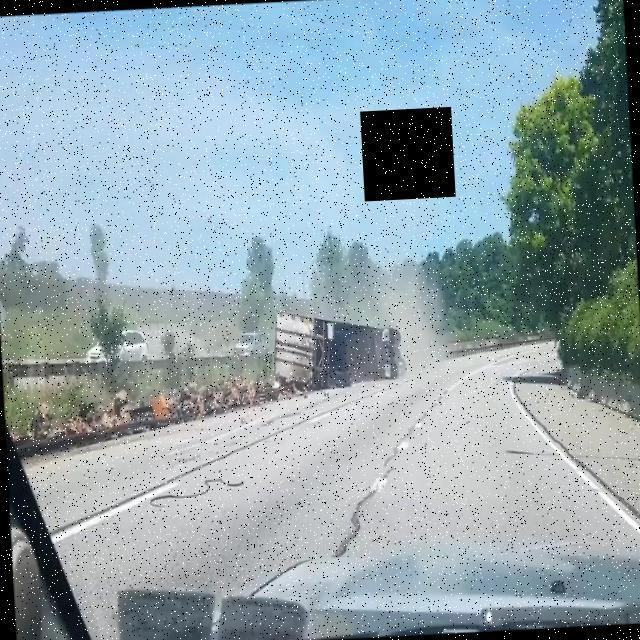accident: (270, 299, 410, 397)
